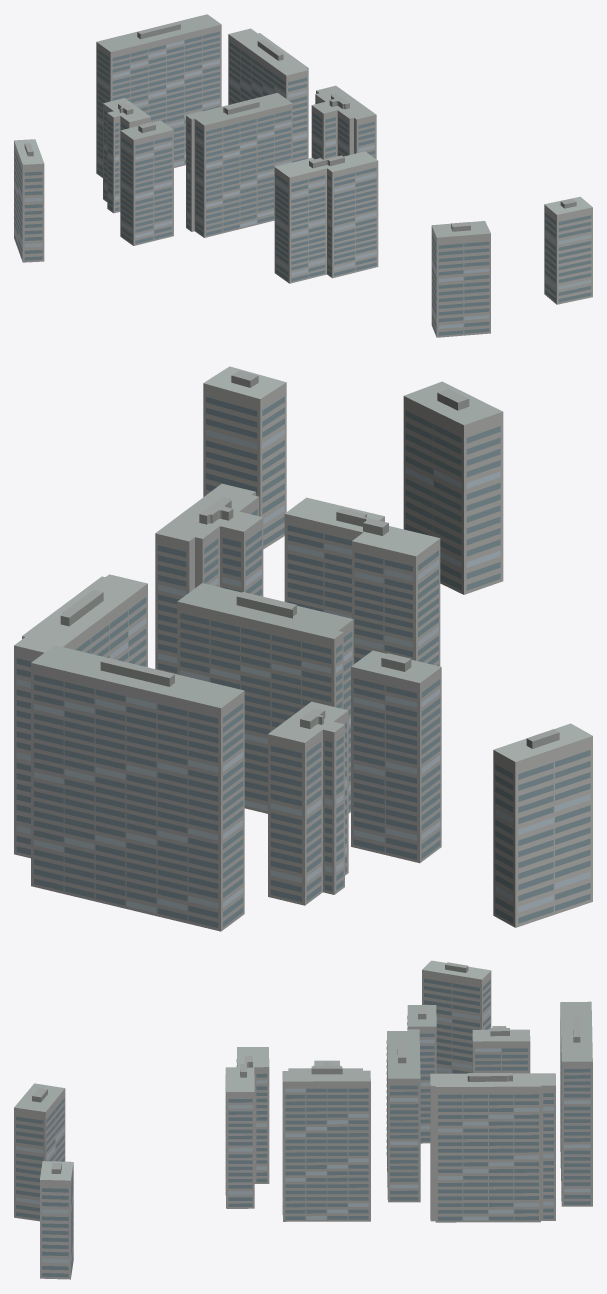
File: apt-a15003801.glb
3 views of the same model, one above another, from view 1: azimuth 30°, elevation 25°; view 2: azimuth 150°, elevation 25°; view 3: azimuth 270°, elevation 25° (orthographic). The views are drawn at different scales.
Visible parts, largest first — view 1: apt-a15003801; view 2: apt-a15003801; view 3: apt-a15003801.
Boxes of the visible parts, box(x1,y1,x2,y2) form: apt-a15003801: box(14, 14, 592, 337); apt-a15003801: box(14, 366, 592, 931); apt-a15003801: box(14, 960, 592, 1279).
Size of the model in its own units: 193 by 64 by 223.
